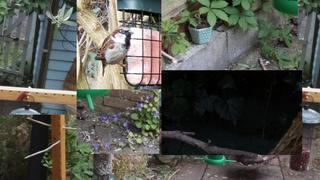sparrow: (94, 27, 135, 77)
